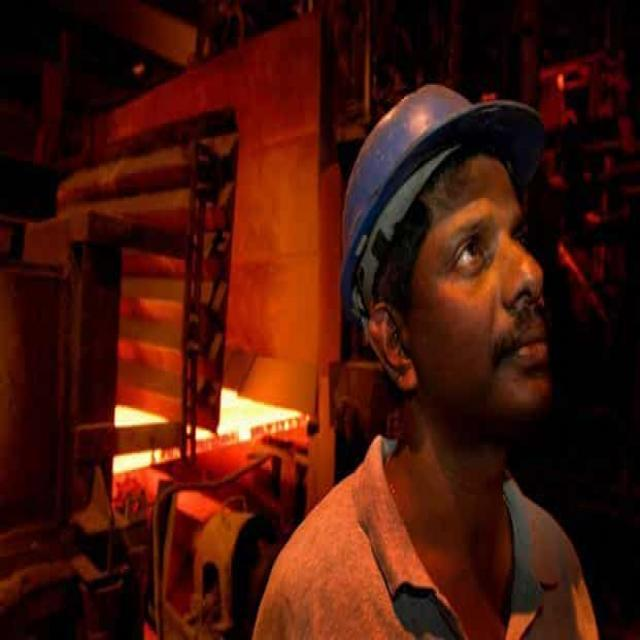reflective_jacket: (244, 426, 610, 638)
safety_helmet: (309, 67, 547, 320)
